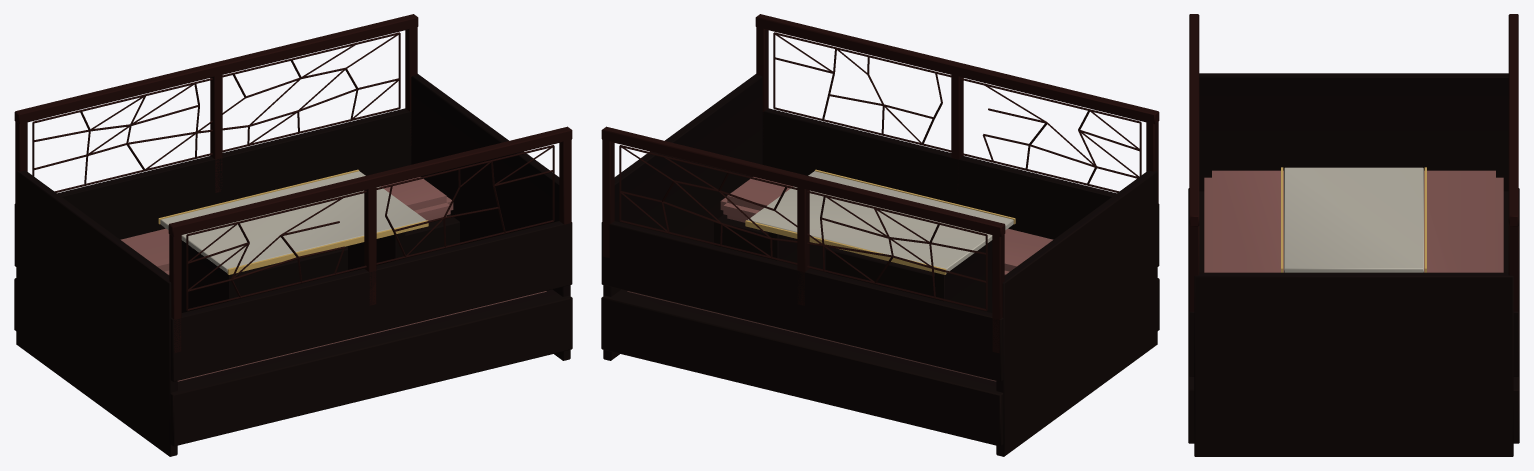
Rendered from tea-booth.glb.
The picture shows the model from 3 angles, left to right: view 1: azimuth 30°, elevation 25°; view 2: azimuth 150°, elevation 25°; view 3: azimuth 270°, elevation 25°; orthographic projection. The views are drawn at different scales.
Parts seen in each view (by area): view 1: frame__wood, table__marble, cushion__fabric, trim__brass; view 2: frame__wood, table__marble, cushion__fabric, trim__brass; view 3: frame__wood, cushion__fabric, table__marble, trim__brass.
Boxes of the visible parts, x1,y1,x2,y2 form: frame__wood: (14,14,572,456); table__marble: (160,171,426,273); cushion__fabric: (120,177,546,381); trim__brass: (158,169,428,274); frame__wood: (601,14,1159,456); table__marble: (747,171,1013,273); cushion__fabric: (627,177,1053,381); trim__brass: (745,169,1015,274); frame__wood: (1188,14,1519,456); cushion__fabric: (1204,170,1503,272); table__marble: (1284,167,1423,272); trim__brass: (1281,167,1426,272).
Bounding box in the file's own units: 2.41 × 1.33 × 1.66.
